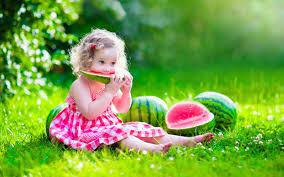child: (49, 25, 213, 163)
